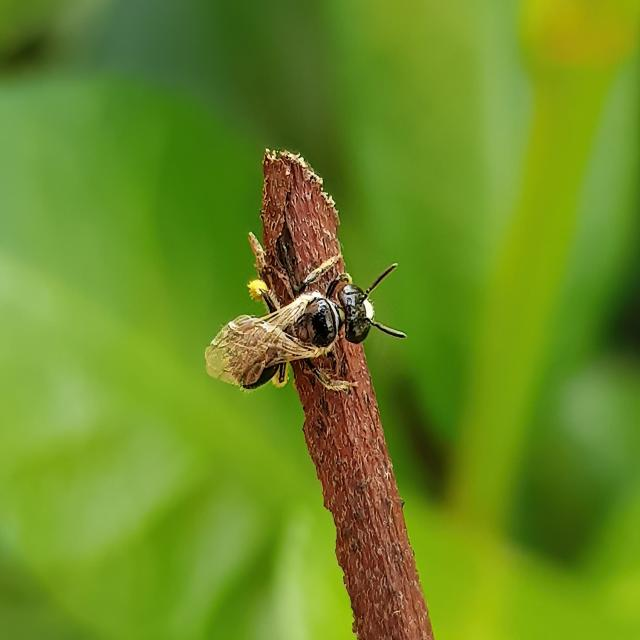Braunsapis: (174, 228, 417, 427)
